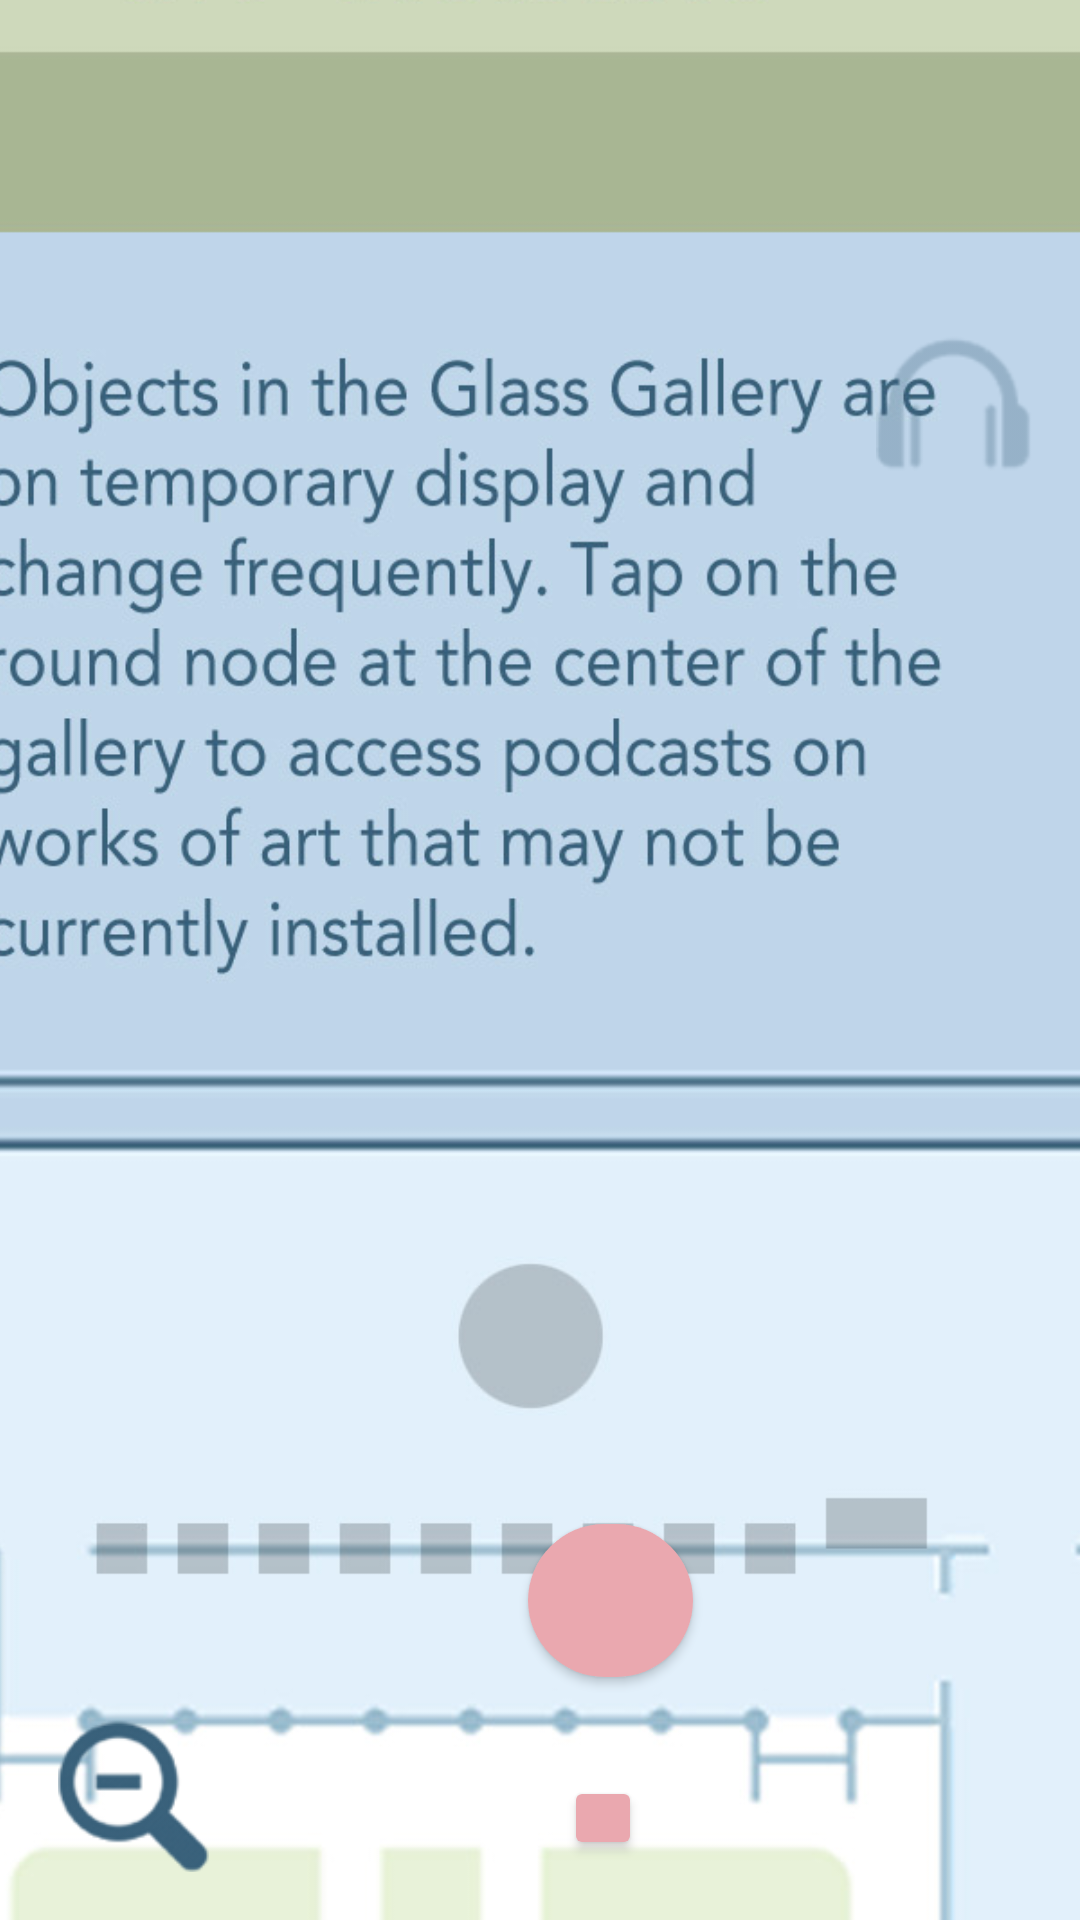

Named icons in this screenshot (1080w x 1920h) and their centers, (x=x, y=y):
Podcast Inactive: (x=953, y=404)
Zoom Out: (x=133, y=1795)
